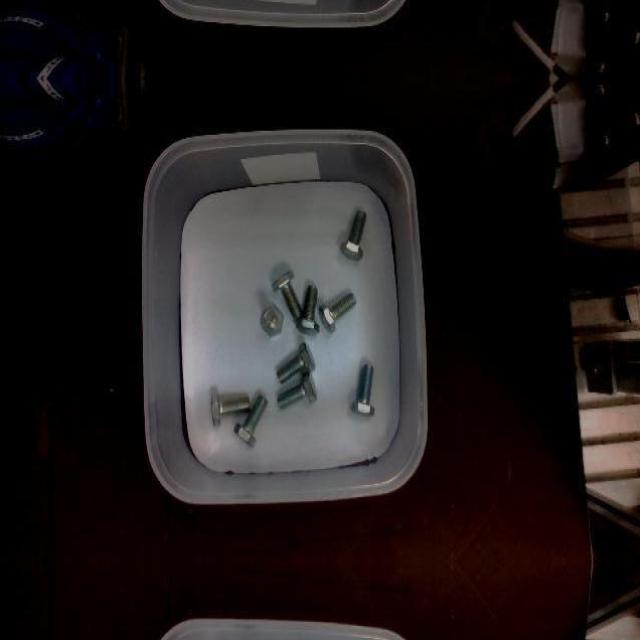screw: (234, 393, 268, 448), (277, 341, 317, 383), (319, 290, 357, 332), (278, 370, 318, 409), (272, 270, 303, 320), (340, 208, 367, 259), (212, 392, 250, 426), (352, 362, 376, 415), (296, 284, 319, 334), (260, 305, 284, 334)
